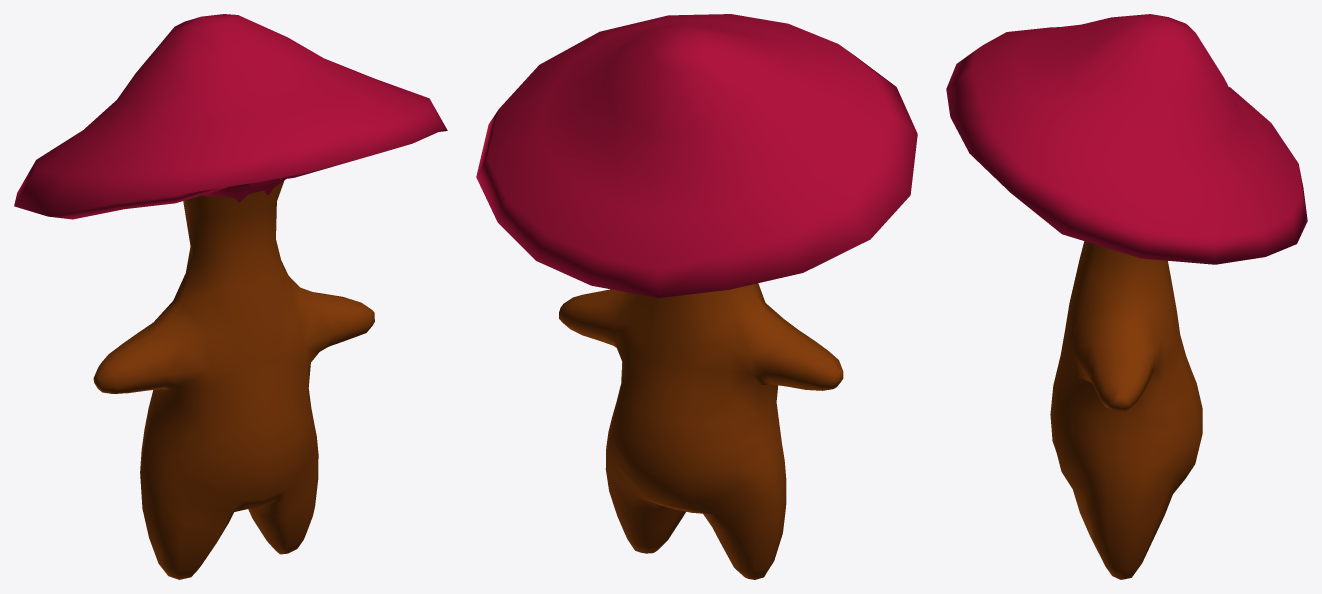
The model's file is PlayerMushroom_L.fbx.
3 views of the same model, side by side, from view 1: azimuth 30°, elevation 25°; view 2: azimuth 150°, elevation 25°; view 3: azimuth 270°, elevation 25° (orthographic). The views are drawn at different scales.
Parts seen in each view (by area): view 1: geo_Base_L, geo_PlayerMushroom_L; view 2: geo_PlayerMushroom_L, geo_Base_L; view 3: geo_PlayerMushroom_L, geo_Base_L.
Part boxes in pixels (x1,y1,x2,y2): geo_Base_L: (93, 181, 374, 579); geo_PlayerMushroom_L: (14, 14, 447, 219); geo_PlayerMushroom_L: (476, 14, 917, 297); geo_Base_L: (559, 283, 843, 579); geo_PlayerMushroom_L: (946, 14, 1307, 264); geo_Base_L: (1050, 241, 1202, 579).
Size of the model in its own units: 133 by 172 by 106.
